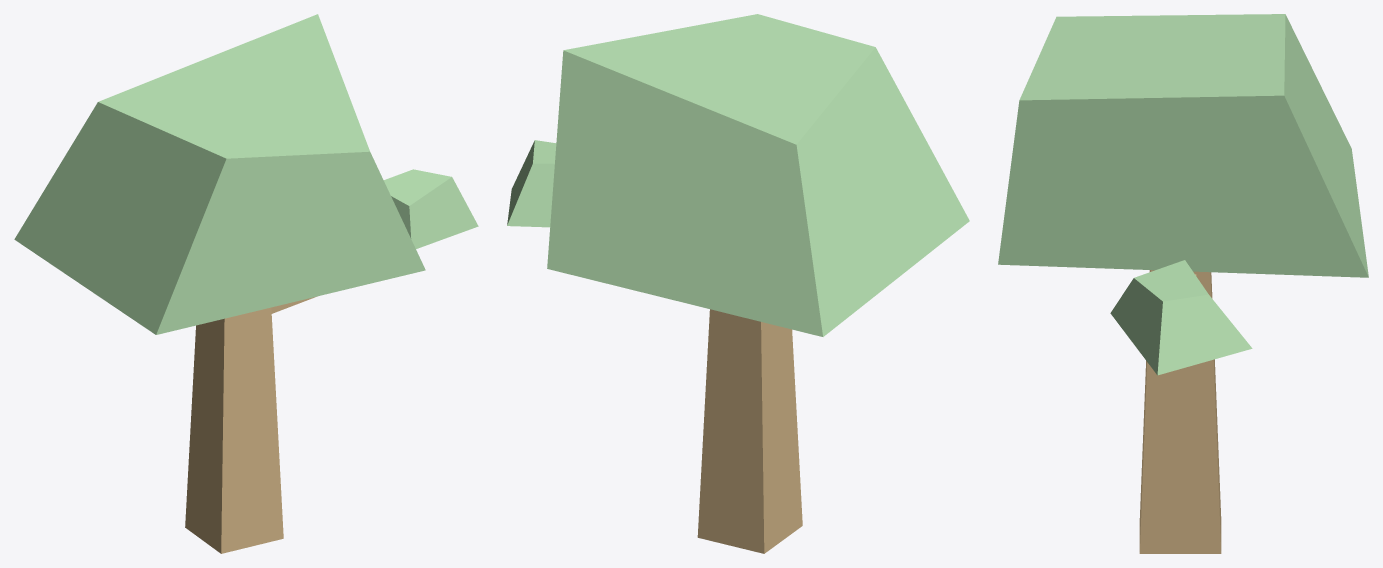
File: tree2.fbx
3 views of the same model, side by side, from view 1: azimuth 30°, elevation 25°; view 2: azimuth 150°, elevation 25°; view 3: azimuth 270°, elevation 25° (orthographic). The views are drawn at different scales.
Parts seen in each view (by area): view 1: Cube.001, Cube, Cube.004; view 2: Cube.001, Cube, Cube.004; view 3: Cube.001, Cube, Cube.004.
Boxes of the visible parts, <box> form: Cube.001: <box>14,14,425,334</box>; Cube: <box>185,307,283,553</box>; Cube.004: <box>384,169,478,248</box>; Cube.001: <box>547,14,969,336</box>; Cube: <box>697,309,802,553</box>; Cube.004: <box>507,140,556,227</box>; Cube.001: <box>998,14,1368,277</box>; Cube: <box>1139,270,1221,553</box>; Cube.004: <box>1110,260,1252,375</box>.
Size of the model in its own units: 71.32 by 81.76 by 53.64.
